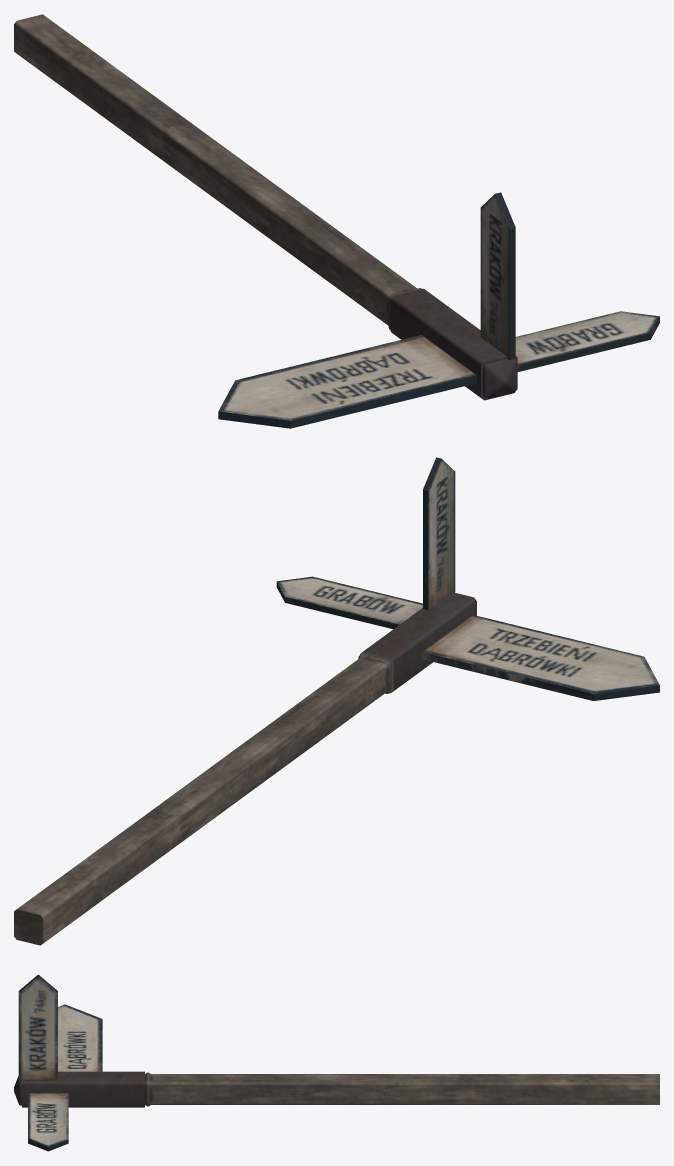
File: hd_env_EU_064_PolishSignboards.fbx
3 renders of one model, top to bottom at view 1: azimuth 30°, elevation 25°; view 2: azimuth 150°, elevation 25°; view 3: azimuth 270°, elevation 25°, orthographic. The views are drawn at different scales.
Parts seen in each view (by area): view 1: set_0_group_0; view 2: set_0_group_0; view 3: set_0_group_0.
Boxes of the visible parts, x1,y1,x2,y2 form: set_0_group_0: (14,14,659,428); set_0_group_0: (14,457,659,945); set_0_group_0: (14,974,659,1151).
Bounding box in the file's own units: 205 × 87.84 × 393.
Materials: 1 (1 with a texture image).
